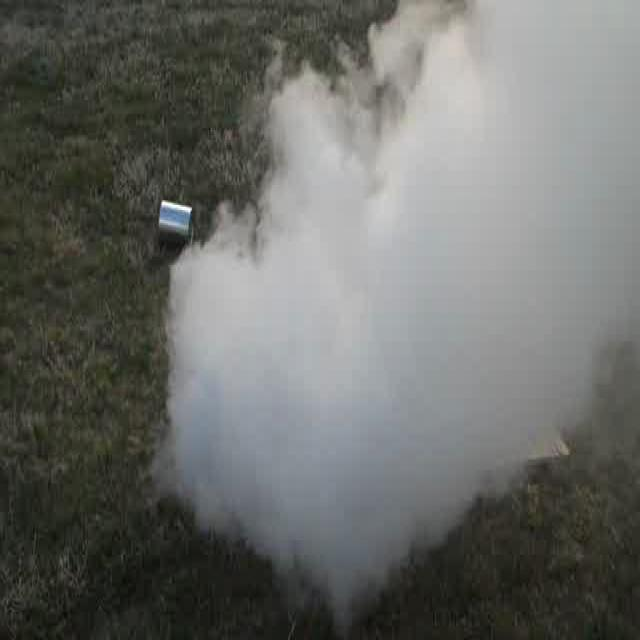Smoke: (184, 5, 636, 592)
